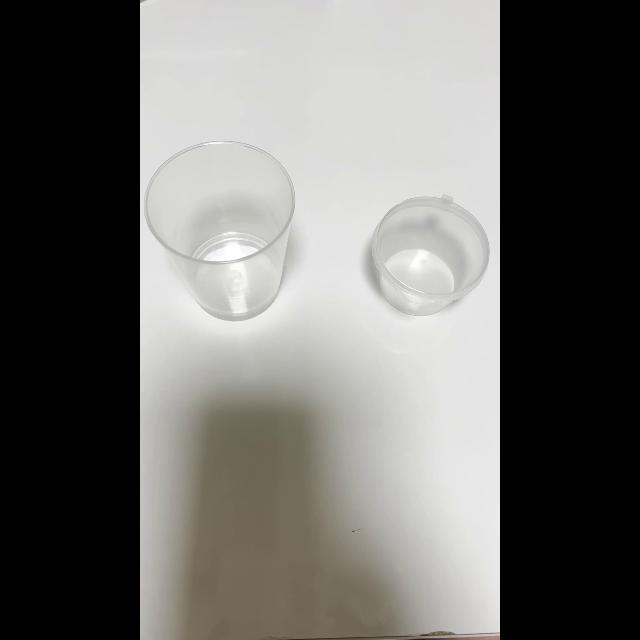clean: (144, 142, 296, 318), (372, 195, 491, 315)
